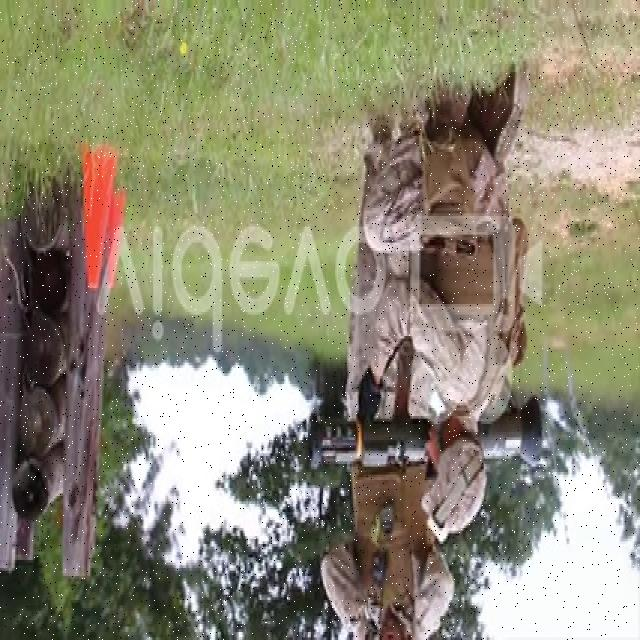bazooka: (304, 394, 550, 487)
